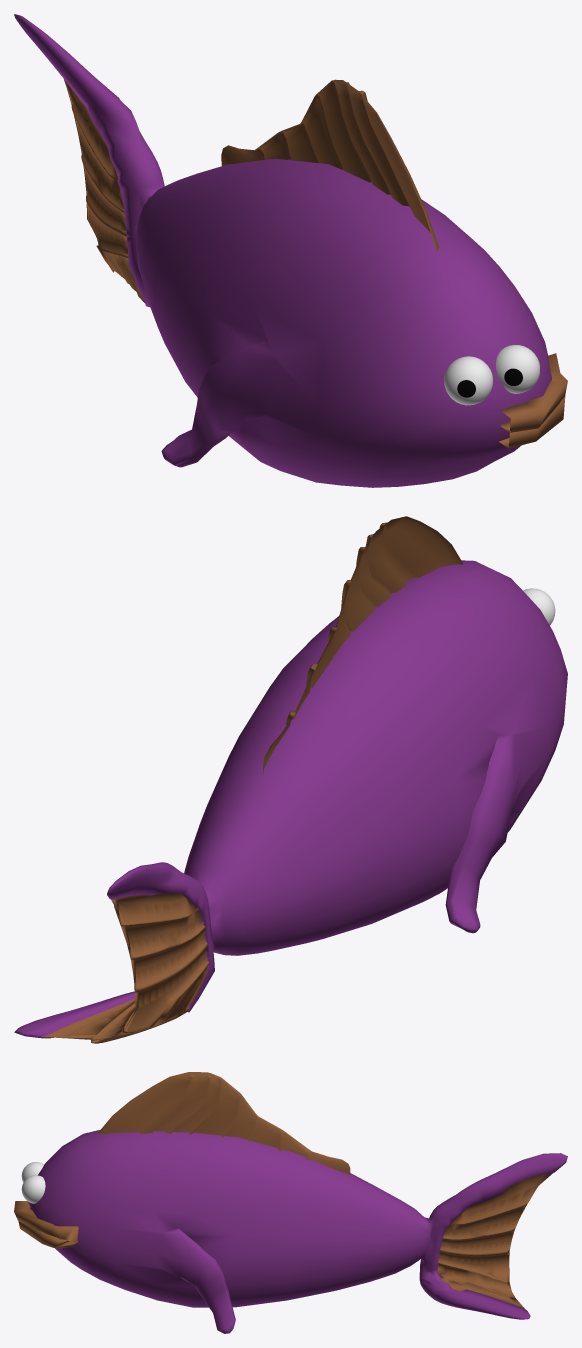
File: salmonad.glb
The picture shows the model from 3 angles, top to bottom: view 1: azimuth 30°, elevation 25°; view 2: azimuth 150°, elevation 25°; view 3: azimuth 270°, elevation 25°; orthographic projection. The views are drawn at different scales.
Parts seen in each view (by area): view 1: 立方体.001, 背ビレ, Cube.009, Eyes_R, Eyes_L; view 2: 立方体.001, 背ビレ; view 3: 立方体.001, 背ビレ, Cube.009, Eyes_L.
Boxes of the visible parts, bbox=[...] form: 立方体.001: bbox=[14, 14, 551, 487]; 背ビレ: bbox=[221, 79, 439, 252]; Cube.009: bbox=[499, 353, 567, 448]; Eyes_R: bbox=[444, 356, 492, 405]; Eyes_L: bbox=[495, 345, 539, 393]; 立方体.001: bbox=[14, 560, 567, 1043]; 背ビレ: bbox=[262, 516, 462, 774]; 立方体.001: bbox=[28, 1129, 567, 1333]; 背ビレ: bbox=[98, 1072, 350, 1174]; Cube.009: bbox=[14, 1201, 78, 1248]; Eyes_L: bbox=[21, 1175, 45, 1203].
Bounding box in the file's own units: 0.363 × 0.4499 × 1.02.
